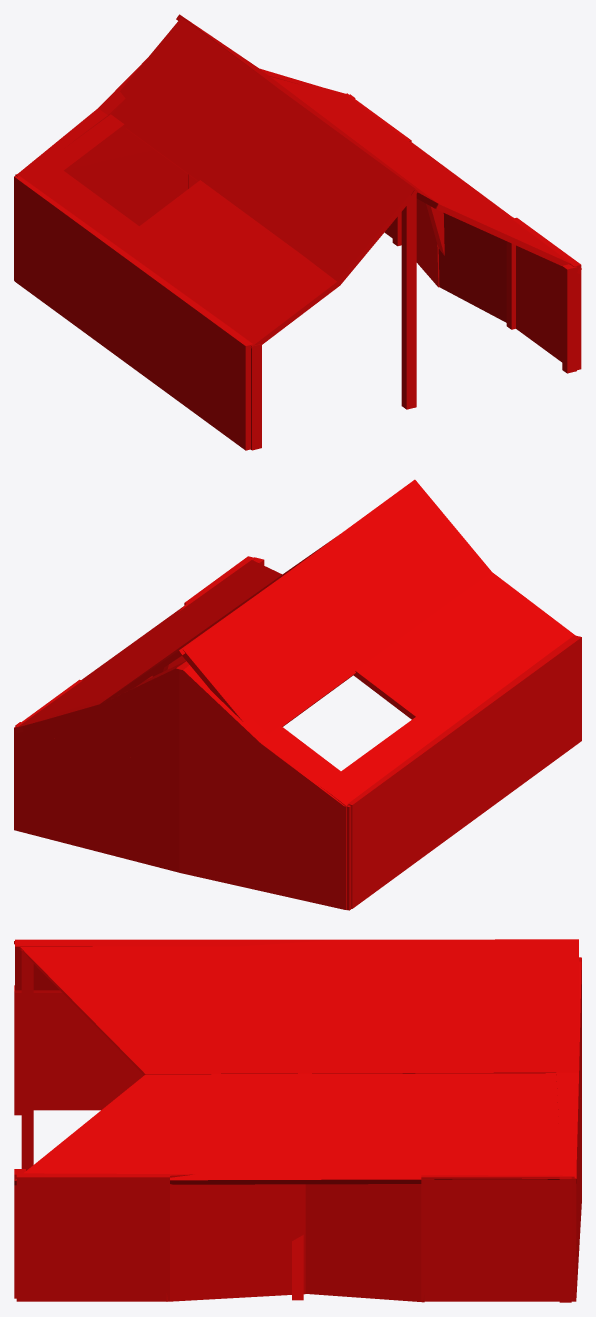
Rendered from SM_Bld_Military_Tent_Damaged_03_Collision.fbx.
3 renders of one model, top to bottom at view 1: azimuth 30°, elevation 25°; view 2: azimuth 150°, elevation 25°; view 3: azimuth 270°, elevation 25°, orthographic. The views are drawn at different scales.
Parts seen in each view (by area): view 1: SM_Bld_Military_Tent_Damaged_03_Collision; view 2: SM_Bld_Military_Tent_Damaged_03_Collision; view 3: SM_Bld_Military_Tent_Damaged_03_Collision.
Boxes of the visible parts, x1,y1,x2,y2 form: SM_Bld_Military_Tent_Damaged_03_Collision: [14, 14, 581, 450]; SM_Bld_Military_Tent_Damaged_03_Collision: [14, 479, 581, 910]; SM_Bld_Military_Tent_Damaged_03_Collision: [14, 939, 581, 1302].
Size of the model in its own units: 622 by 397 by 760.
